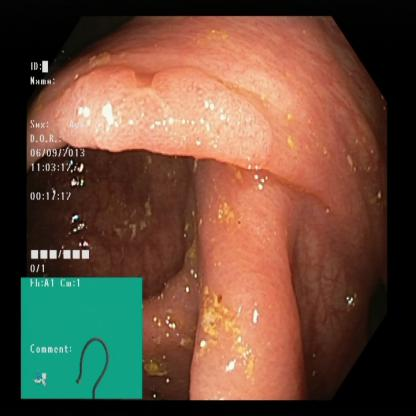Labels: (25, 59, 101, 276), (20, 276, 143, 402)
Polyps: (64, 67, 281, 171)
